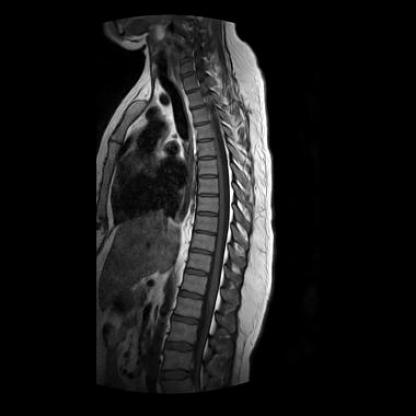Demyelinating Plaquesrotation: (197, 210, 220, 222), (197, 137, 217, 147)
Hemangiomatarotation: (187, 253, 213, 272), (196, 124, 215, 138)
